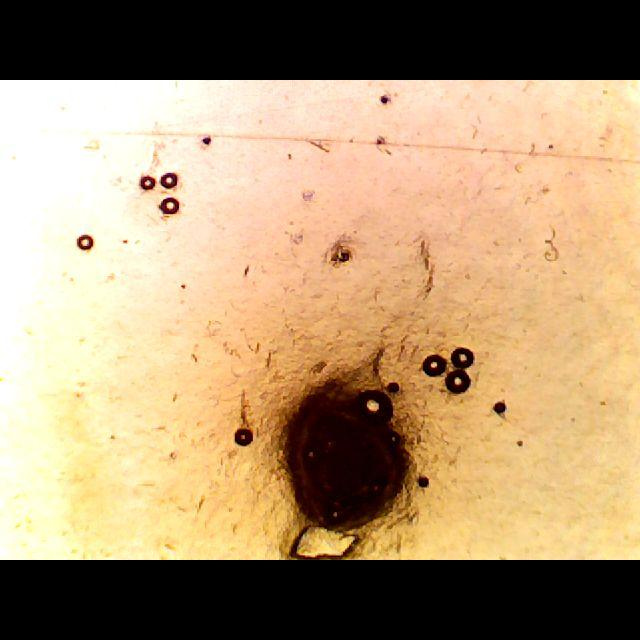microbeads: (443, 369, 471, 393), (421, 354, 447, 378), (158, 194, 182, 216), (232, 424, 254, 448), (452, 348, 476, 368), (161, 168, 179, 190), (75, 234, 95, 252), (138, 174, 156, 192)
